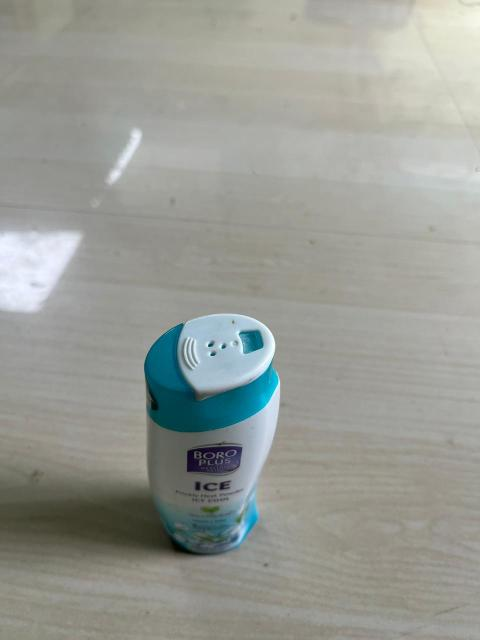boroplus: (126, 312, 290, 553)
